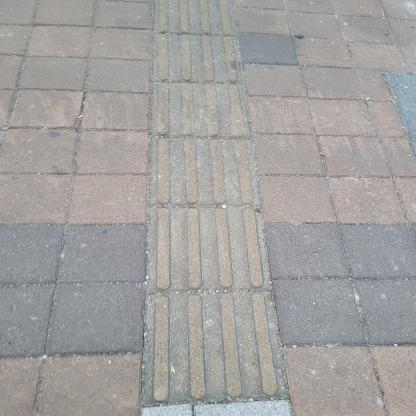podotacti: (137, 0, 292, 411)
